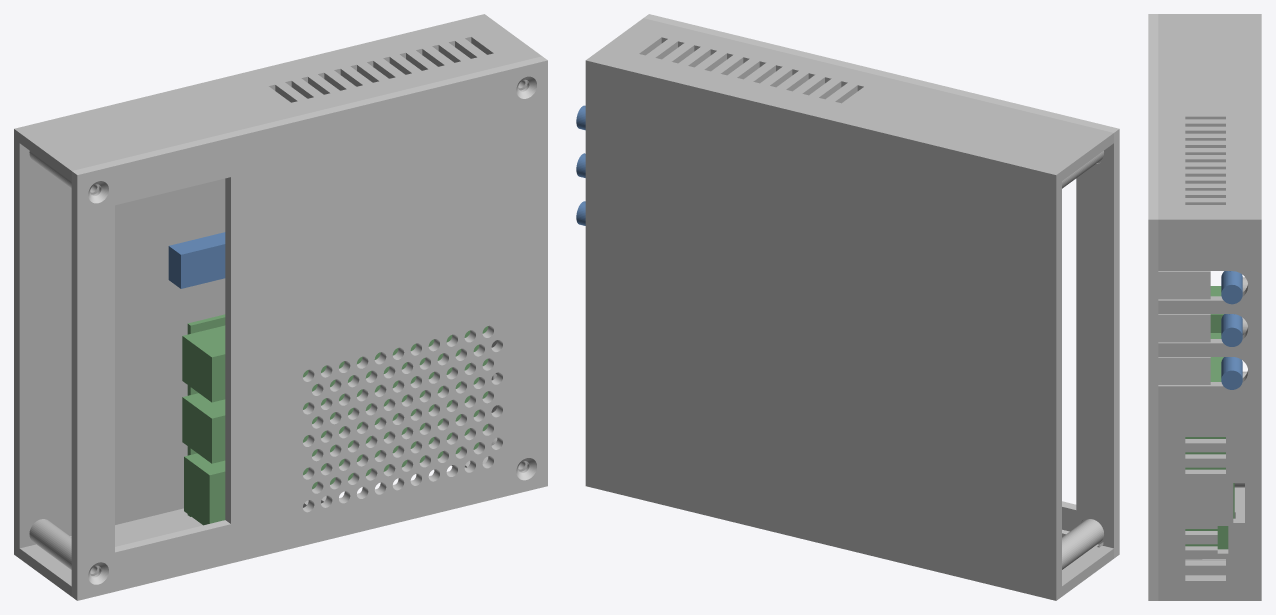
Rendered from assembly.glb.
3 renders of one model, left to right at view 1: azimuth 30°, elevation 25°; view 2: azimuth 150°, elevation 25°; view 3: azimuth 270°, elevation 25°, orthographic. The views are drawn at different scales.
Parts seen in each view (by area): view 1: lid, box, device_pi, device_sdr; view 2: box, lid; view 3: box, lid, device_sdr, device_pi.
Part boxes in pixels (bbox=[...]): lid: bbox=[71, 56, 547, 600]; box: bbox=[14, 14, 541, 596]; device_pi: bbox=[182, 314, 488, 525]; device_sdr: bbox=[168, 232, 225, 288]; box: bbox=[585, 18, 1113, 600]; lid: bbox=[644, 14, 1119, 558]; box: bbox=[1158, 14, 1261, 600]; lid: bbox=[1148, 14, 1210, 600]; device_sdr: bbox=[1221, 271, 1242, 389]; device_pi: bbox=[1185, 286, 1234, 549].
Size of the model in its own units: 150 by 124 by 33.6.
